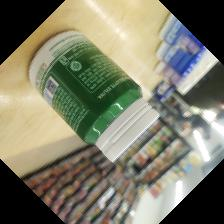Xylitol_green: (28, 28, 160, 164)
